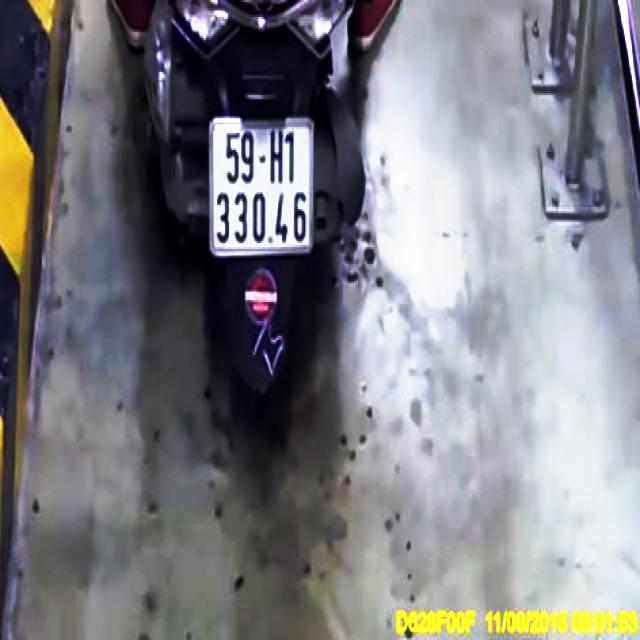license_plate: (213, 122, 313, 253)
